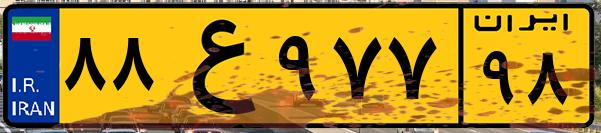7: (385, 28, 445, 110), (330, 28, 385, 110)
8: (57, 26, 110, 100), (525, 38, 570, 115), (110, 28, 158, 98)
9: (270, 28, 330, 110), (475, 38, 525, 113)
ع: (158, 12, 270, 120)
